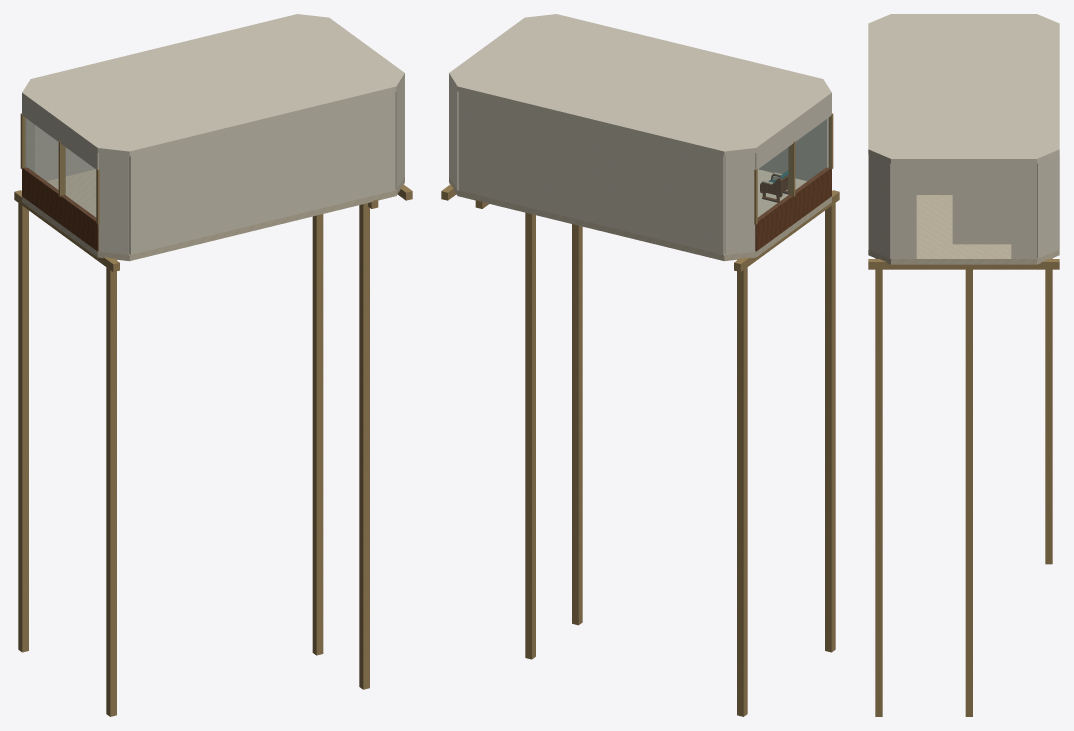
File: D04_PORT_CENTRAL_HOME_929_r001.glb
3 views of the same model, side by side, from view 1: azimuth 30°, elevation 25°; view 2: azimuth 150°, elevation 25°; view 3: azimuth 270°, elevation 25° (orthographic). The views are drawn at different scales.
Parts seen in each view (by area): view 1: PC929_D04H928_Roof, PC929_D04H928_Shell_3, PC929_D04H928_Pier_4, PC929_D04H928_Pier_3, PC929_D04H928_Pier_2, PC929_D04H928_Pier_1, PC929_D04H928_Floor, PC929_D04H928_GardenGlass, PC929_D04H928_Shell_2, PC929_D04H928_GardenDado, PC929_D04H928_Shell_7, PC929_D04H928_GardenHead (+1 smaller); view 2: PC929_D04H928_Roof, PC929_D04H928_Shell_7, PC929_D04H928_Pier_1, PC929_D04H928_Pier_2, PC929_D04H928_Pier_3, PC929_D04H928_Pier_4, PC929_D04H928_Floor, PC929_D04H928_Shell_0, PC929_D04H928_GardenGlass, PC929_D04H928_GardenDado, PC929_D04H928_Shell_3, PC929_D04H928_GardenHead (+1 smaller); view 3: PC929_D04H928_Roof, PC929_D04H928_Floor, PC929_D04H928_Pier_4, PC929_D04H928_Pier_3, PC929_D04H928_EntryHeader, PC929_D04H928_BathDogleg, PC929_D04H928_EntryWall_0, PC929_D04H928_EntryWall_1, PC929_D04H928_Pier_1, PC929_D04H928_Shell_4, PC929_D04H928_Shell_6, PC929_D04H928_Long_-46.349999999999994.
Part boxes in pixels (x1,y1,x2,y2): PC929_D04H928_Roof: [22, 14, 404, 156]; PC929_D04H928_Shell_3: [129, 92, 395, 254]; PC929_D04H928_Pier_4: [359, 203, 369, 689]; PC929_D04H928_Pier_3: [312, 214, 323, 655]; PC929_D04H928_Pier_2: [106, 258, 116, 716]; PC929_D04H928_Pier_1: [18, 193, 28, 652]; PC929_D04H928_Floor: [22, 169, 404, 261]; PC929_D04H928_GardenGlass: [26, 120, 95, 219]; PC929_D04H928_Shell_2: [98, 153, 129, 254]; PC929_D04H928_GardenDado: [22, 167, 98, 251]; PC929_D04H928_Shell_7: [35, 125, 95, 181]; PC929_D04H928_GardenHead: [22, 98, 98, 169]; PC929_D04H928_Roof: [449, 14, 831, 156]; PC929_D04H928_Shell_7: [458, 92, 724, 254]; PC929_D04H928_Pier_1: [737, 258, 747, 716]; PC929_D04H928_Pier_2: [825, 193, 835, 652]; PC929_D04H928_Pier_3: [525, 212, 535, 659]; PC929_D04H928_Pier_4: [572, 224, 582, 625]; PC929_D04H928_Floor: [449, 169, 831, 261]; PC929_D04H928_Shell_0: [724, 153, 755, 254]; PC929_D04H928_GardenGlass: [758, 120, 826, 219]; PC929_D04H928_GardenDado: [755, 167, 831, 251]; PC929_D04H928_Shell_3: [758, 125, 818, 181]; PC929_D04H928_GardenHead: [755, 98, 831, 169]; PC929_D04H928_Roof: [868, 14, 1059, 163]; PC929_D04H928_Floor: [868, 195, 1059, 264]; PC929_D04H928_Pier_4: [875, 258, 882, 716]; PC929_D04H928_Pier_3: [965, 269, 972, 716]; PC929_D04H928_EntryHeader: [916, 163, 1011, 194]; PC929_D04H928_BathDogleg: [952, 195, 1011, 244]; PC929_D04H928_EntryWall_0: [1011, 163, 1036, 258]; PC929_D04H928_EntryWall_1: [891, 163, 916, 258]; PC929_D04H928_Pier_1: [1045, 258, 1052, 564]; PC929_D04H928_Shell_4: [869, 154, 890, 258]; PC929_D04H928_Shell_6: [1037, 154, 1058, 258]; PC929_D04H928_Long_-46.349999999999994: [868, 259, 1059, 269].
Bounding box in the file's own units: 12.92 × 24.02 × 7.2.
Materials: 36 (21 with a texture image).
